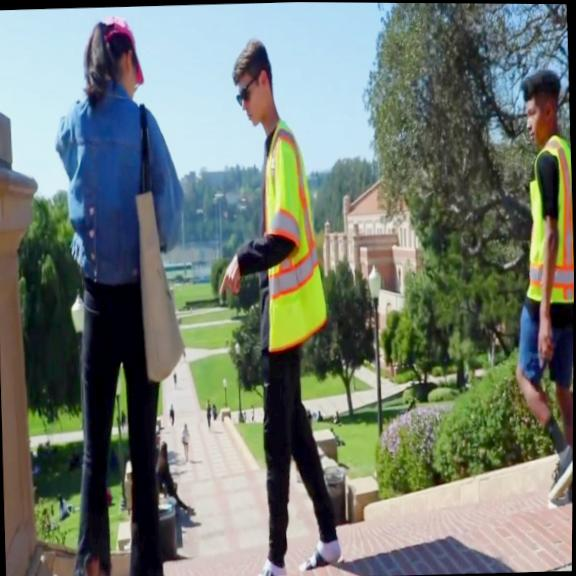safety_vest: (256, 112, 331, 355), (515, 132, 575, 306)
